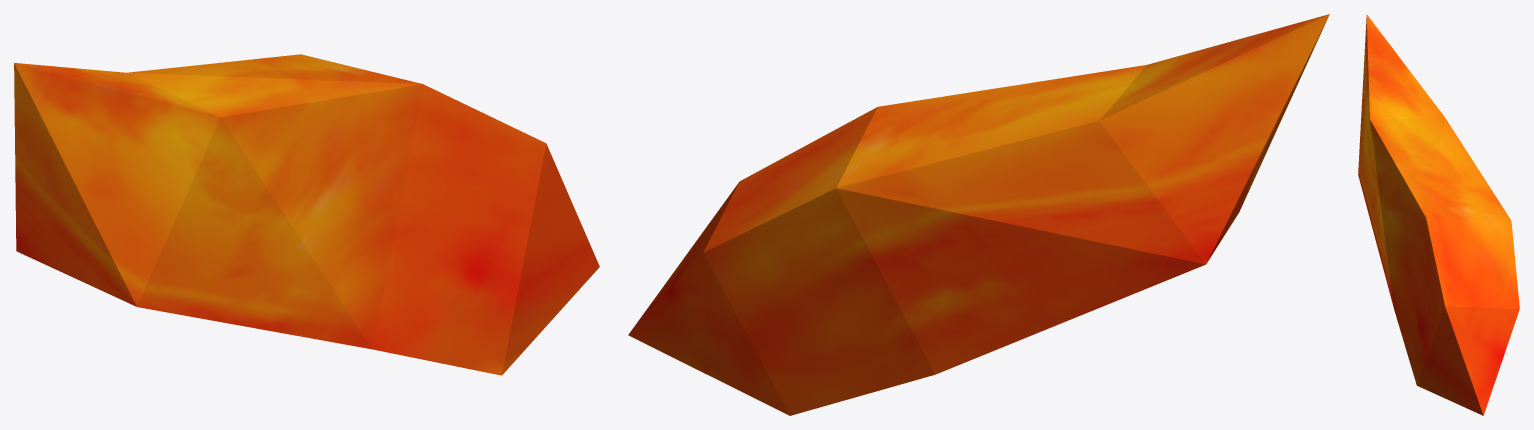
File: Island_2_Tree_1_Leaf_7.gltf
3 renders of one model, left to right at view 1: azimuth 30°, elevation 25°; view 2: azimuth 150°, elevation 25°; view 3: azimuth 270°, elevation 25°, orthographic. The views are drawn at different scales.
Parts seen in each view (by area): view 1: Island_2_Tree_1_Leaf_7; view 2: Island_2_Tree_1_Leaf_7; view 3: Island_2_Tree_1_Leaf_7.
Boxes of the visible parts, x1,y1,x2,y2 form: Island_2_Tree_1_Leaf_7: (14,54,599,375); Island_2_Tree_1_Leaf_7: (628,14,1329,415); Island_2_Tree_1_Leaf_7: (1358,14,1519,415).
Size of the model in its own units: 1.23 by 0.84 by 0.4911.
Materials: 1 (1 with a texture image).
